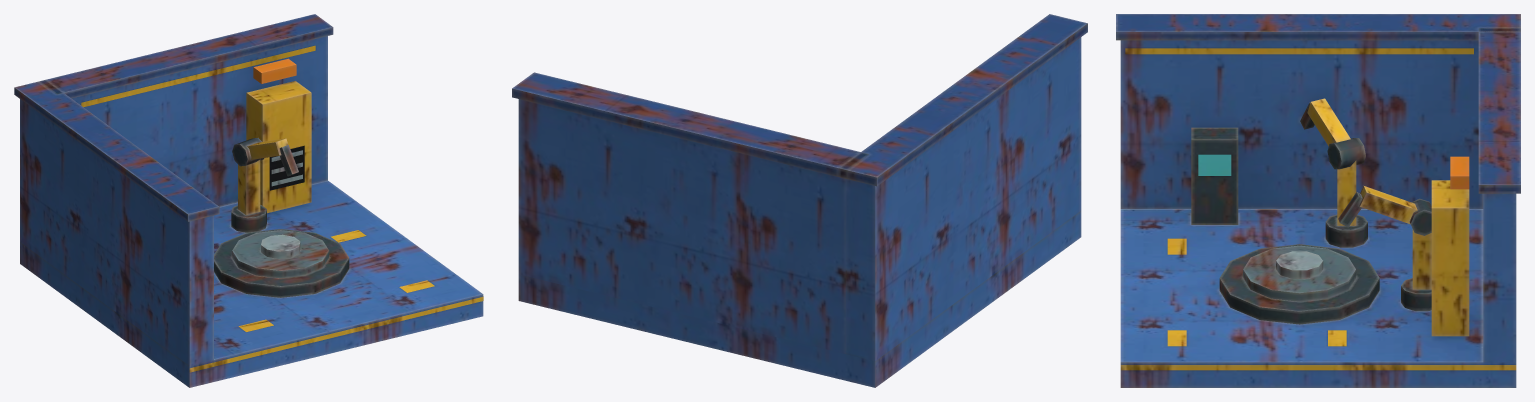
File: assembler.glb
3 renders of one model, left to right at view 1: azimuth 30°, elevation 25°; view 2: azimuth 150°, elevation 25°; view 3: azimuth 270°, elevation 25°, orthographic. The views are drawn at different scales.
Parts seen in each view (by area): view 1: te_assembler; view 2: te_assembler; view 3: te_assembler.
Boxes of the visible parts, left/top/right/bottom form: te_assembler: left=14, top=14, right=483, bottom=387; te_assembler: left=512, top=14, right=1087, bottom=387; te_assembler: left=1116, top=14, right=1520, bottom=387.
Size of the model in its own units: 0.86 by 0.48 by 0.86.
1 material, 1 textured.
